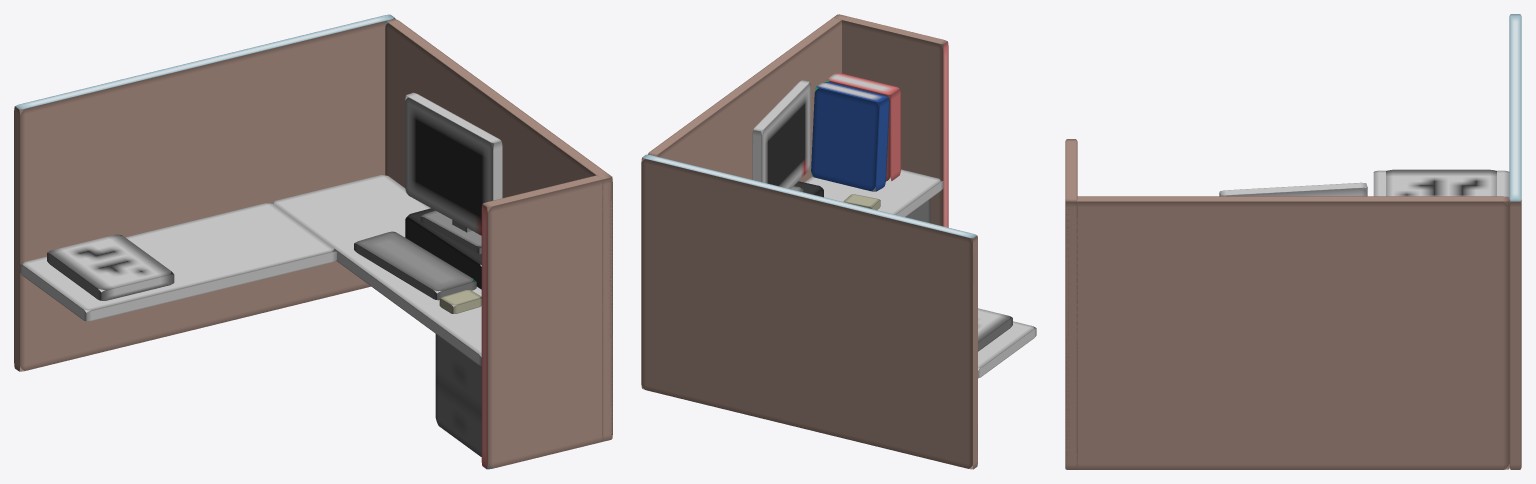
Rendered from Office_Cubical.fbx.
The picture shows the model from 3 angles, left to right: view 1: azimuth 30°, elevation 25°; view 2: azimuth 150°, elevation 25°; view 3: azimuth 270°, elevation 25°; orthographic projection. The views are drawn at different scales.
Visible parts, largest first — view 1: cube; view 2: cube; view 3: cube.
Part boxes in pixels (left/top/right/bottom): cube: left=14, top=14, right=612, bottom=469; cube: left=641, top=14, right=1036, bottom=469; cube: left=1065, top=14, right=1521, bottom=469.
Size of the model in its own units: 56.25 by 37.5 by 57.81.
Materials: 1 (1 with a texture image).
